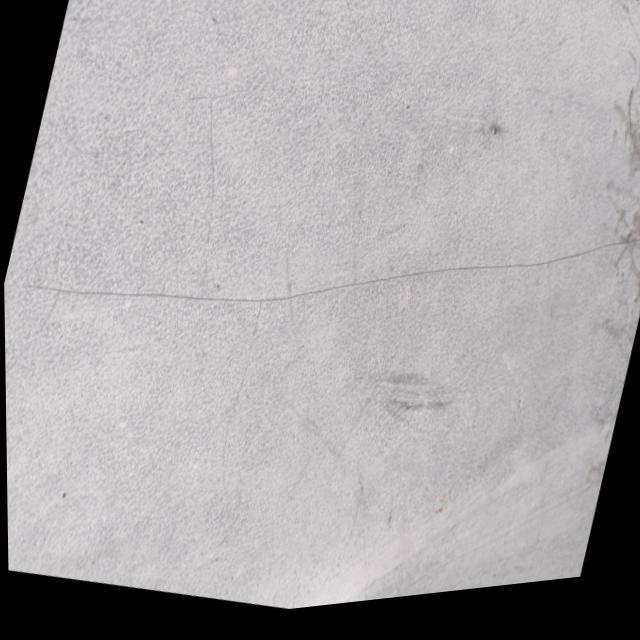Crack: (29, 236, 625, 305)
